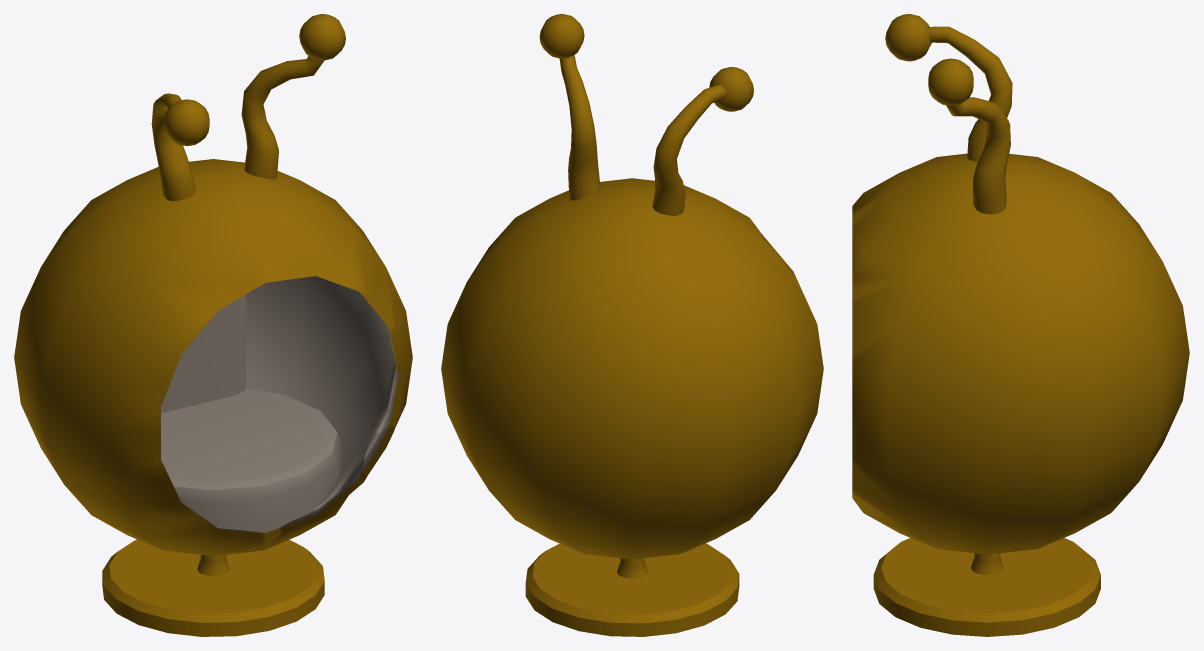
The model's file is alienchair.fbx.
The picture shows the model from 3 angles, left to right: view 1: azimuth 30°, elevation 25°; view 2: azimuth 150°, elevation 25°; view 3: azimuth 270°, elevation 25°; orthographic projection. The views are drawn at different scales.
Visible parts, largest first — view 1: AlienChair; view 2: AlienChair; view 3: AlienChair.
Boxes of the visible parts, left/top/right/bottom form: AlienChair: left=14, top=14, right=412, bottom=636; AlienChair: left=441, top=14, right=823, bottom=636; AlienChair: left=852, top=14, right=1189, bottom=636.
Bounding box in the file's own units: 3.62 × 5.66 × 3.02.
